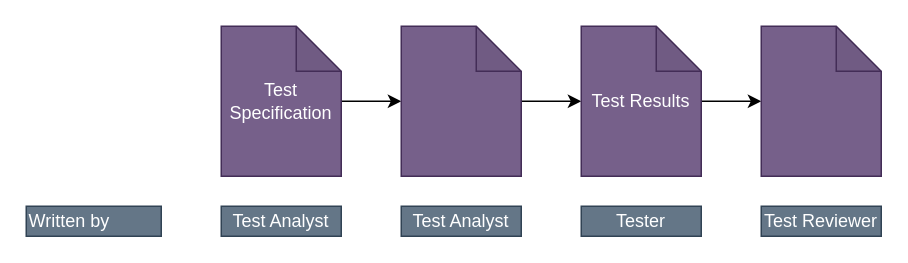
Some shapes in this 908 by 263 pixel diagram are drawn without their labels. Each missing label, with the centre of its shape:
Test Report: point 820,100
Test Scripts: point 460,100
